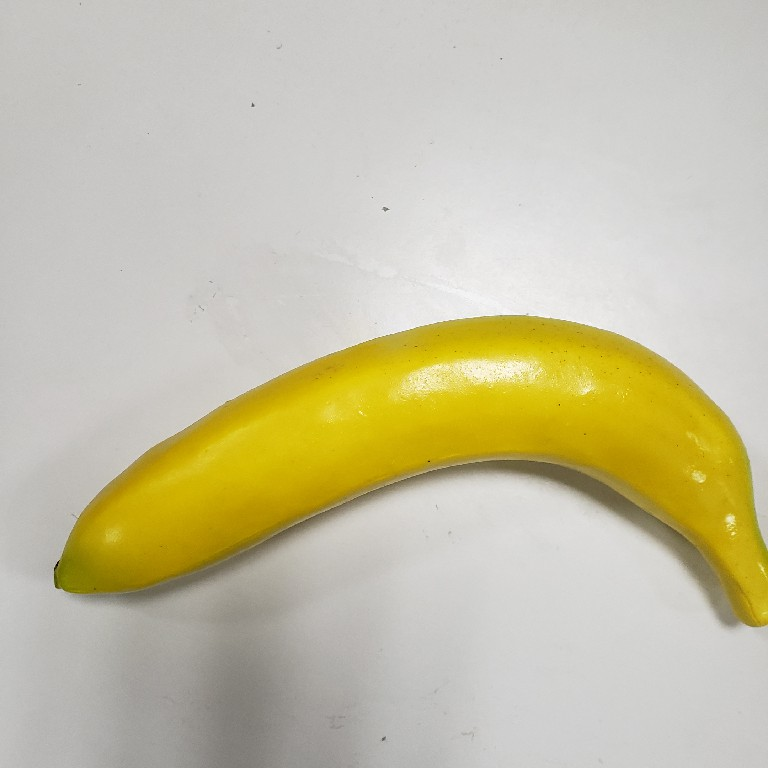fruit_banana: (49, 311, 768, 633)
